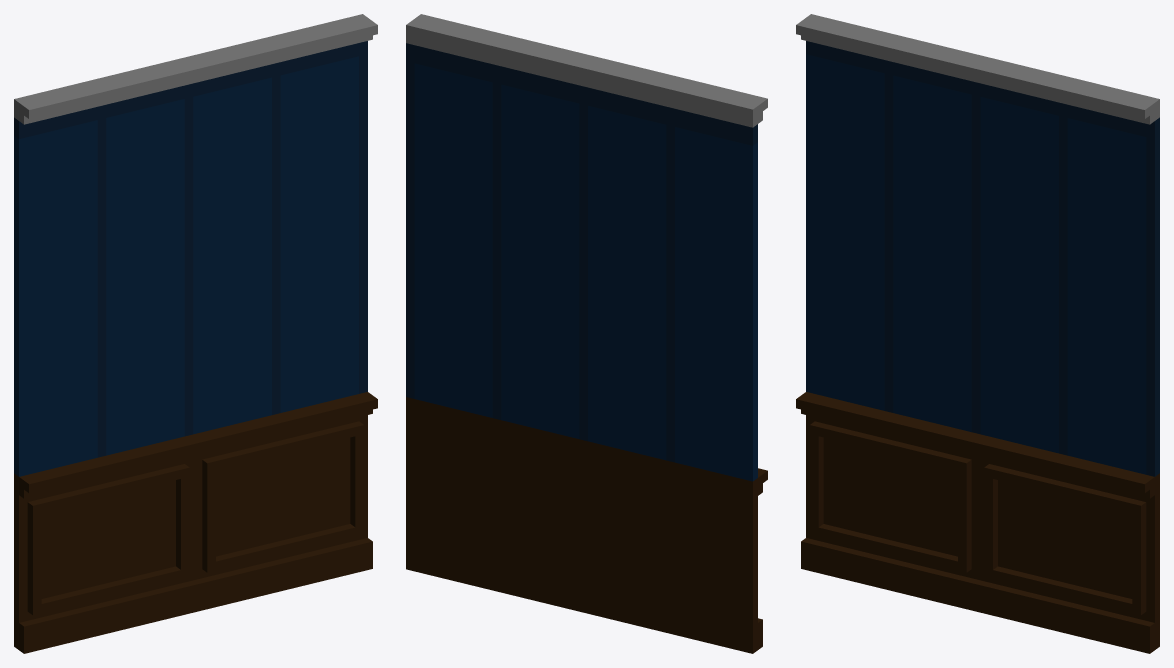
File: wall_room.obj
3 views of the same model, side by side, from view 1: azimuth 30°, elevation 25°; view 2: azimuth 150°, elevation 25°; view 3: azimuth 330°, elevation 25° (orthographic).
Parts seen in each view (by area): view 1: wall_room; view 2: wall_room; view 3: wall_room.
Part boxes in pixels (x1,y1,x2,y2): wall_room: (14, 14, 377, 653); wall_room: (406, 14, 767, 653); wall_room: (796, 14, 1159, 653).
Size of the model in its own units: 40 by 60 by 3.
Materials: 1 (1 with a texture image).
